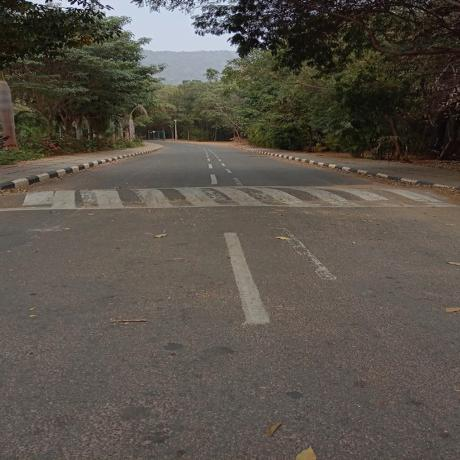Speed Bump: (2, 185, 460, 210)
